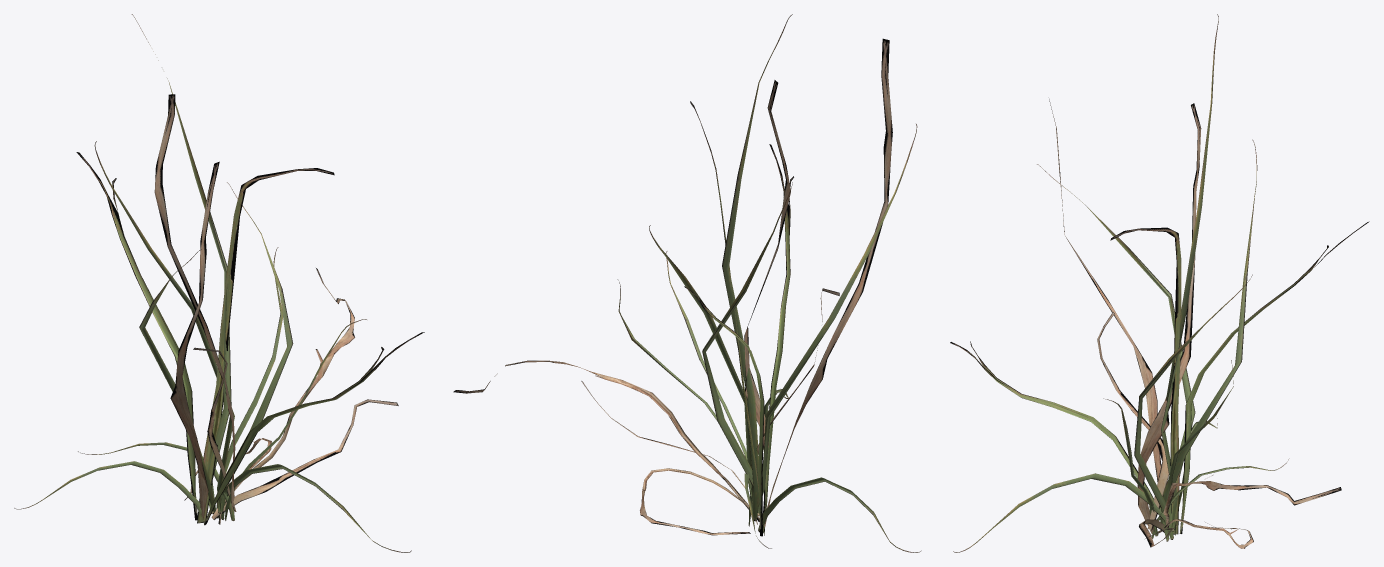
File: grass_medium_02_a.glb
3 renders of one model, left to right at view 1: azimuth 30°, elevation 25°; view 2: azimuth 150°, elevation 25°; view 3: azimuth 270°, elevation 25°, orthographic. The views are drawn at different scales.
Parts seen in each view (by area): view 1: grass_medium_02_a; view 2: grass_medium_02_a; view 3: grass_medium_02_a.
Boxes of the visible parts, left/top/right/bottom form: grass_medium_02_a: left=14, top=14, right=424, bottom=552; grass_medium_02_a: left=453, top=14, right=921, bottom=552; grass_medium_02_a: left=950, top=14, right=1369, bottom=552.
Size of the model in its own units: 0.1191 by 0.1569 by 0.1198.
Materials: 1 (1 with a texture image).
